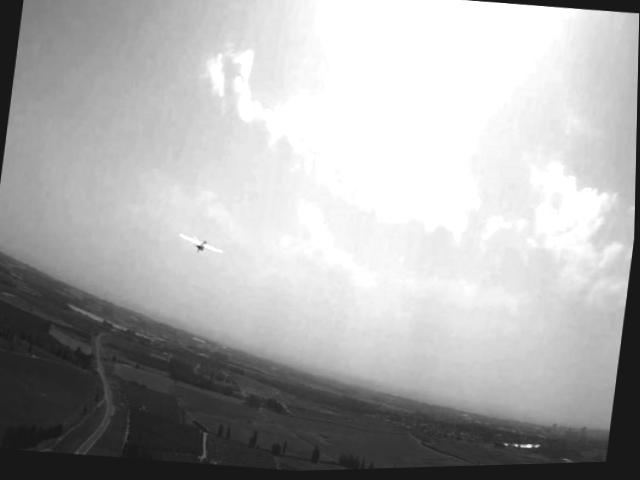hedef: (175, 227, 229, 265)
